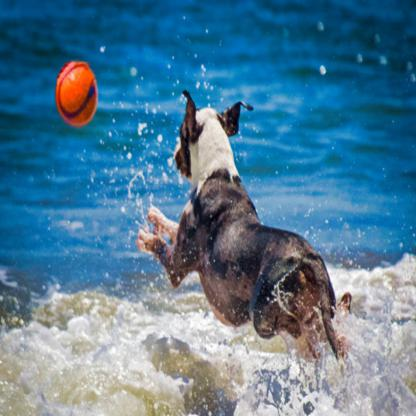Ball: (54, 58, 101, 128)
